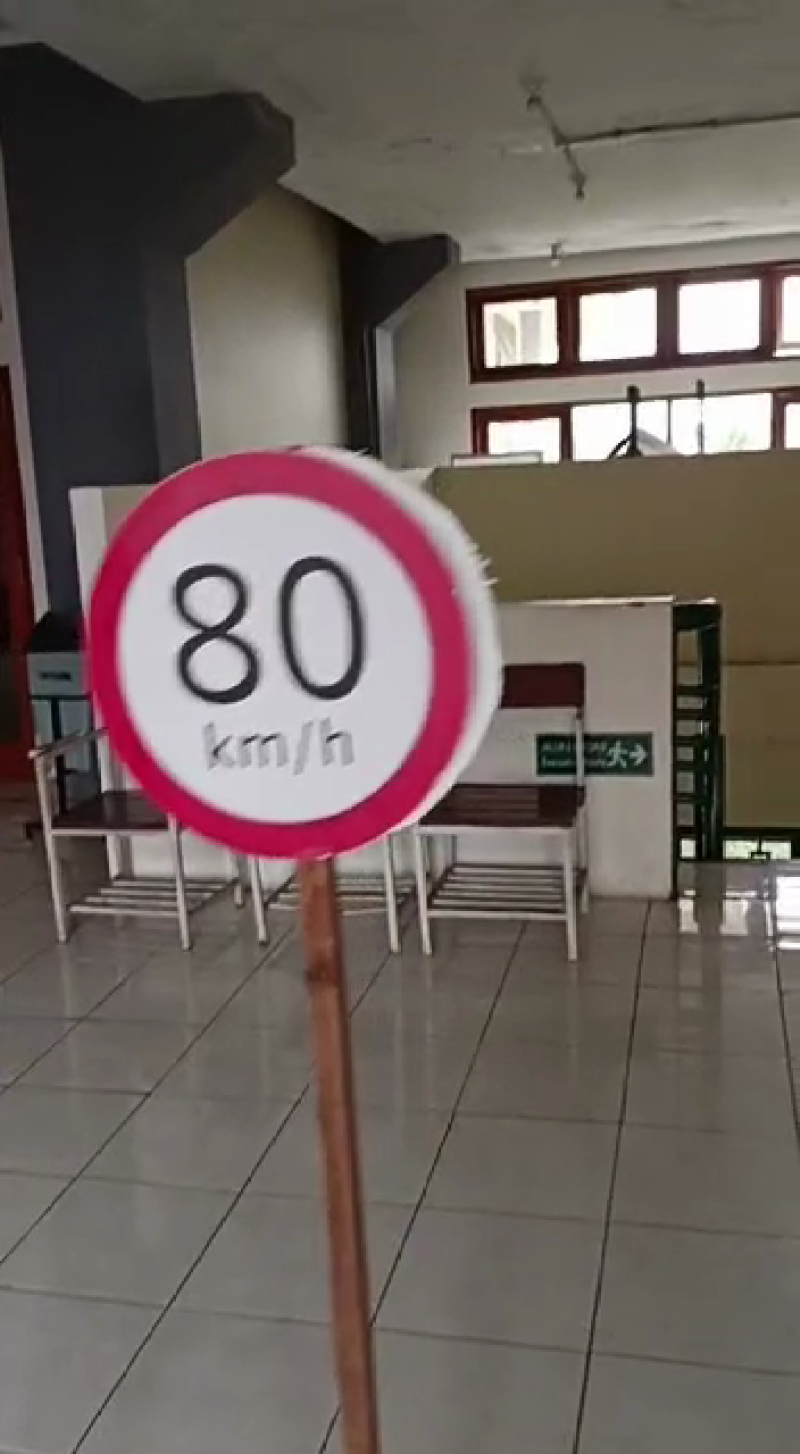batas maksimal 80kmperjam: (75, 440, 479, 866)
